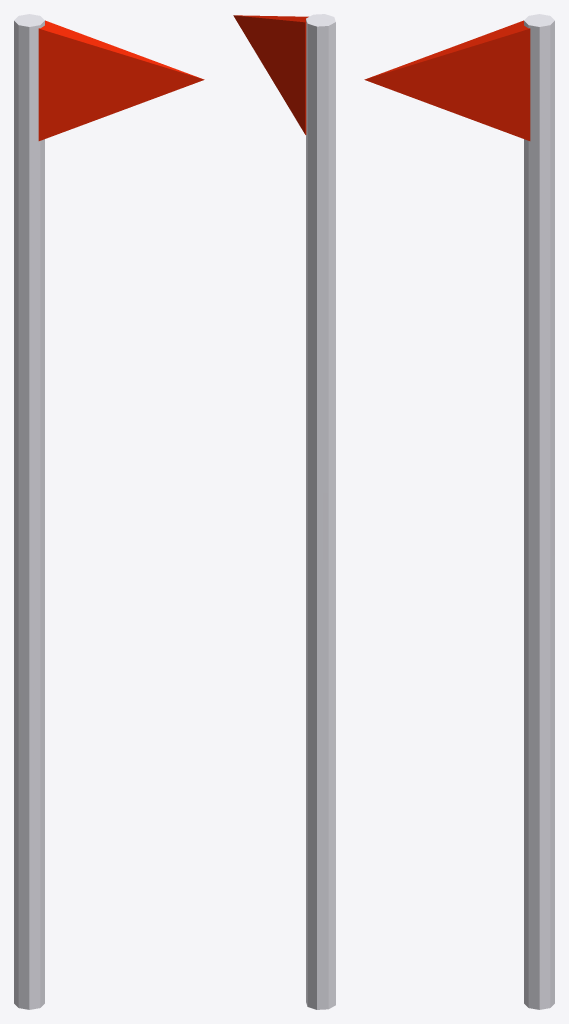
The model's file is flag.000.obj.
3 views of the same model, side by side, from view 1: azimuth 90°, elevation 25°; view 2: azimuth 210°, elevation 25°; view 3: azimuth 270°, elevation 25° (orthographic).
Parts seen in each view (by area): view 1: Flag.000; view 2: Flag.000; view 3: Flag.000.
Part boxes in pixels (x1=…): Flag.000: x1=14, y1=14, x2=204, y2=1009; Flag.000: x1=233, y1=14, x2=335, y2=1009; Flag.000: x1=364, y1=14, x2=554, y2=1009.
Size of the model in its own units: 0.0673 by 2.36 by 0.4158.
1 material, 1 textured.
